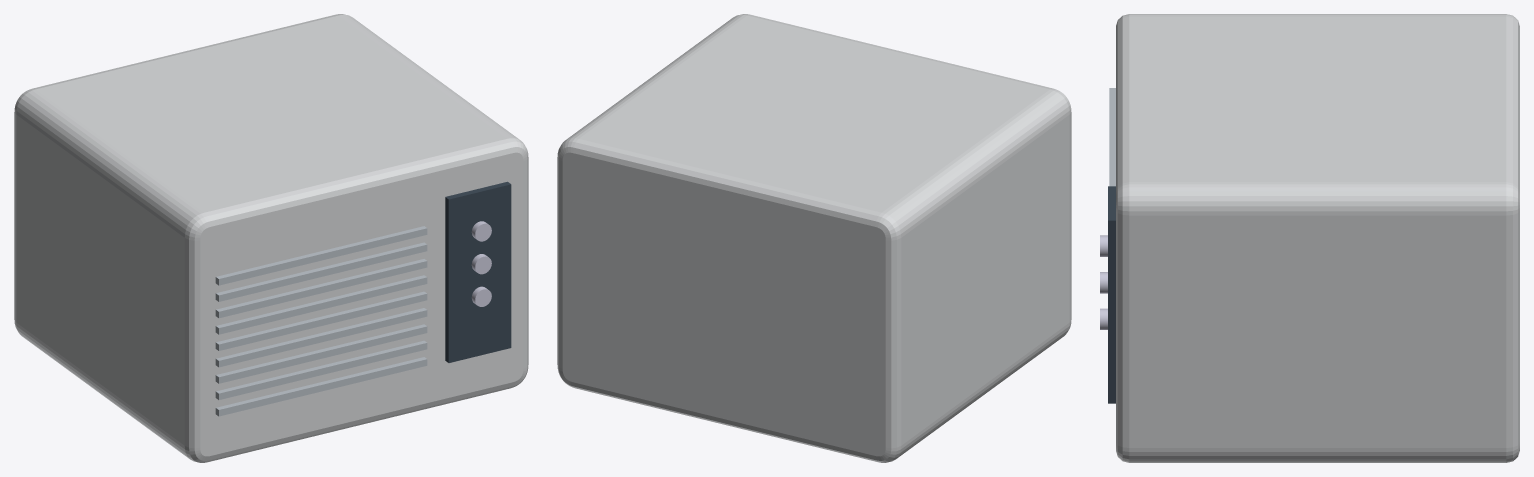
Rendered from aircon.glb.
3 renders of one model, left to right at view 1: azimuth 30°, elevation 25°; view 2: azimuth 150°, elevation 25°; view 3: azimuth 270°, elevation 25°, orthographic. The views are drawn at different scales.
Parts seen in each view (by area): view 1: aircon; view 2: aircon; view 3: aircon.
Boxes of the visible parts, bbox=[...] form: aircon: bbox=[14, 14, 528, 462]; aircon: bbox=[557, 14, 1071, 462]; aircon: bbox=[1100, 14, 1519, 462].
Size of the model in its own units: 0.656 by 0.456 by 0.6235.
